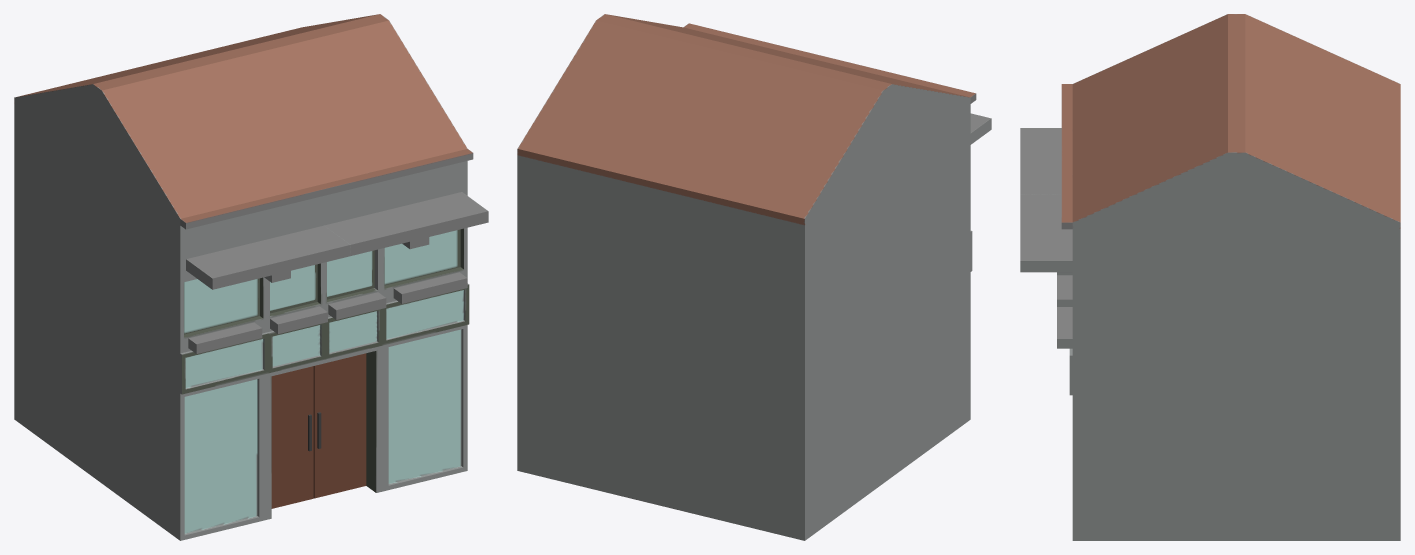
The model's file is BangunanGenericVar2.fbx.
The picture shows the model from 3 angles, left to right: view 1: azimuth 30°, elevation 25°; view 2: azimuth 150°, elevation 25°; view 3: azimuth 270°, elevation 25°; orthographic projection.
Visible parts, largest first — view 1: Bangunan_Var2; view 2: Bangunan_Var2; view 3: Bangunan_Var2.
Part boxes in pixels (<box>): Bangunan_Var2: <box>14,14,488,540</box>; Bangunan_Var2: <box>517,14,991,540</box>; Bangunan_Var2: <box>1020,14,1400,540</box>.
Size of the model in its own units: 300 by 392 by 348.
Materials: 1 (1 with a texture image).
